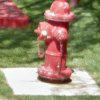Hydrant: (32, 2, 84, 87)
